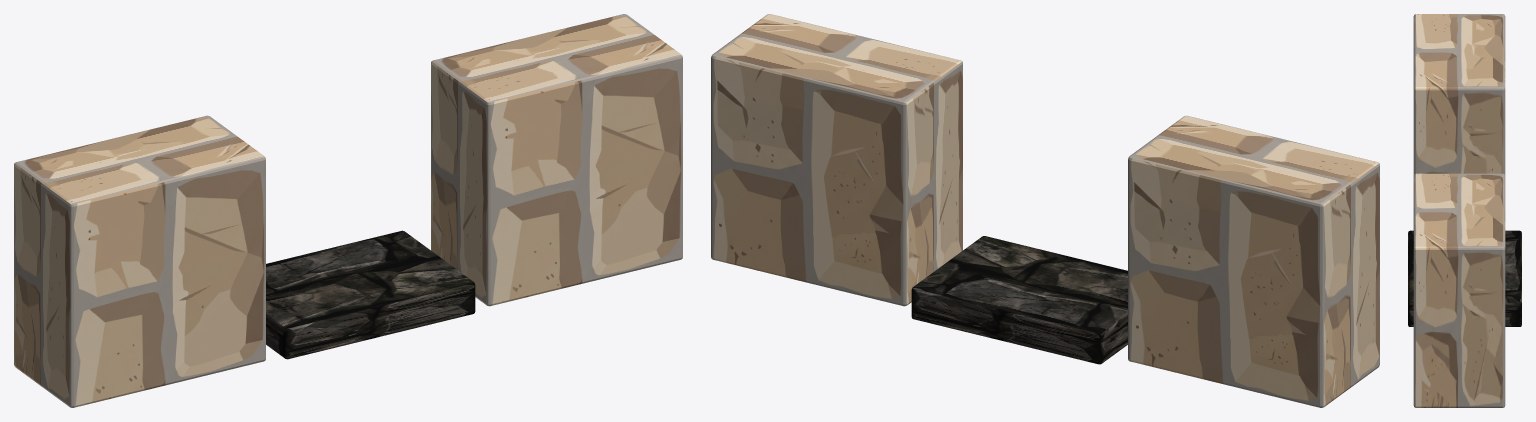
File: parapet_destroyed_gap_LOD2.glb
The picture shows the model from 3 angles, left to right: view 1: azimuth 30°, elevation 25°; view 2: azimuth 150°, elevation 25°; view 3: azimuth 270°, elevation 25°; orthographic projection. The views are drawn at different scales.
Visible parts, largest first — view 1: LOD2_WallSegment, LOD2_WallSegment.001, LOD2_RubbleBed; view 2: LOD2_WallSegment, LOD2_WallSegment.001, LOD2_RubbleBed; view 3: LOD2_WallSegment.001, LOD2_WallSegment, LOD2_RubbleBed.
Part boxes in pixels (left/top/right/bottom): LOD2_WallSegment: left=14, top=115, right=265, bottom=407; LOD2_WallSegment.001: left=431, top=14, right=682, bottom=306; LOD2_RubbleBed: left=266, top=230, right=475, bottom=359; LOD2_WallSegment: left=1128, top=115, right=1379, bottom=407; LOD2_WallSegment.001: left=711, top=14, right=962, bottom=306; LOD2_RubbleBed: left=911, top=236, right=1127, bottom=364; LOD2_WallSegment.001: left=1413, top=173, right=1505, bottom=407; LOD2_WallSegment: left=1413, top=14, right=1505, bottom=175; LOD2_RubbleBed: left=1408, top=230, right=1521, bottom=326.
Size of the model in its own units: 4 by 1.28 by 0.82.
2 materials, 2 textured.
